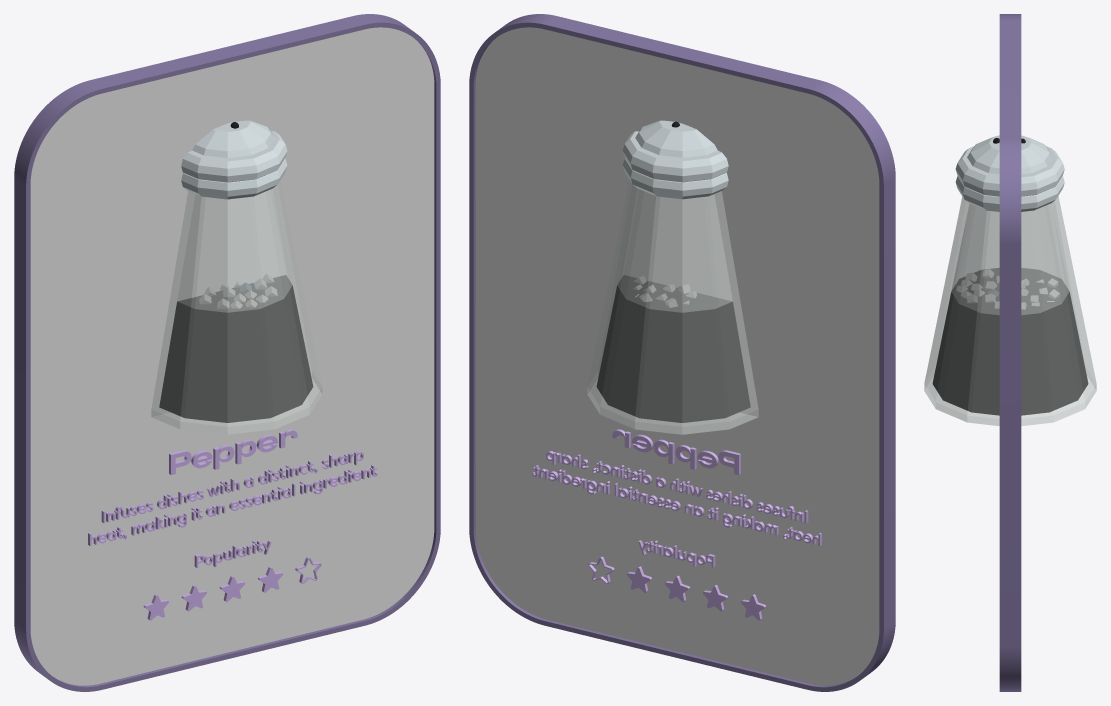
Rendered from pepper.glb.
3 renders of one model, left to right at view 1: azimuth 30°, elevation 25°; view 2: azimuth 150°, elevation 25°; view 3: azimuth 270°, elevation 25°, orthographic. The views are drawn at different scales.
Visible parts, largest first — view 1: Mesh_2708.001, model.001, Mesh_2375.002, Mesh_2506.002, Mesh_2303.002, Mesh_2651.001; view 2: Mesh_2708.001, model.001, Mesh_2375.002, Mesh_2506.002, Mesh_2303.002, Mesh_2651.001; view 3: model.001, Mesh_2375.002.
Boxes of the visible parts, <box> form: Mesh_2708.001: <box>30,27,434,685</box>; model.001: <box>151,120,322,434</box>; Mesh_2375.002: <box>14,14,440,691</box>; Mesh_2506.002: <box>88,451,377,567</box>; Mesh_2303.002: <box>169,429,297,475</box>; Mesh_2651.001: <box>143,556,321,620</box>; Mesh_2708.001: <box>475,27,879,685</box>; model.001: <box>587,120,758,434</box>; Mesh_2375.002: <box>469,14,895,691</box>; Mesh_2506.002: <box>532,451,821,567</box>; Mesh_2303.002: <box>612,429,740,475</box>; Mesh_2651.001: <box>588,556,766,620</box>; model.001: <box>924,135,1096,425</box>; Mesh_2375.002: <box>999,14,1021,691</box>.
Bounding box in the file's own units: 9.06 × 12.55 × 3.59.
